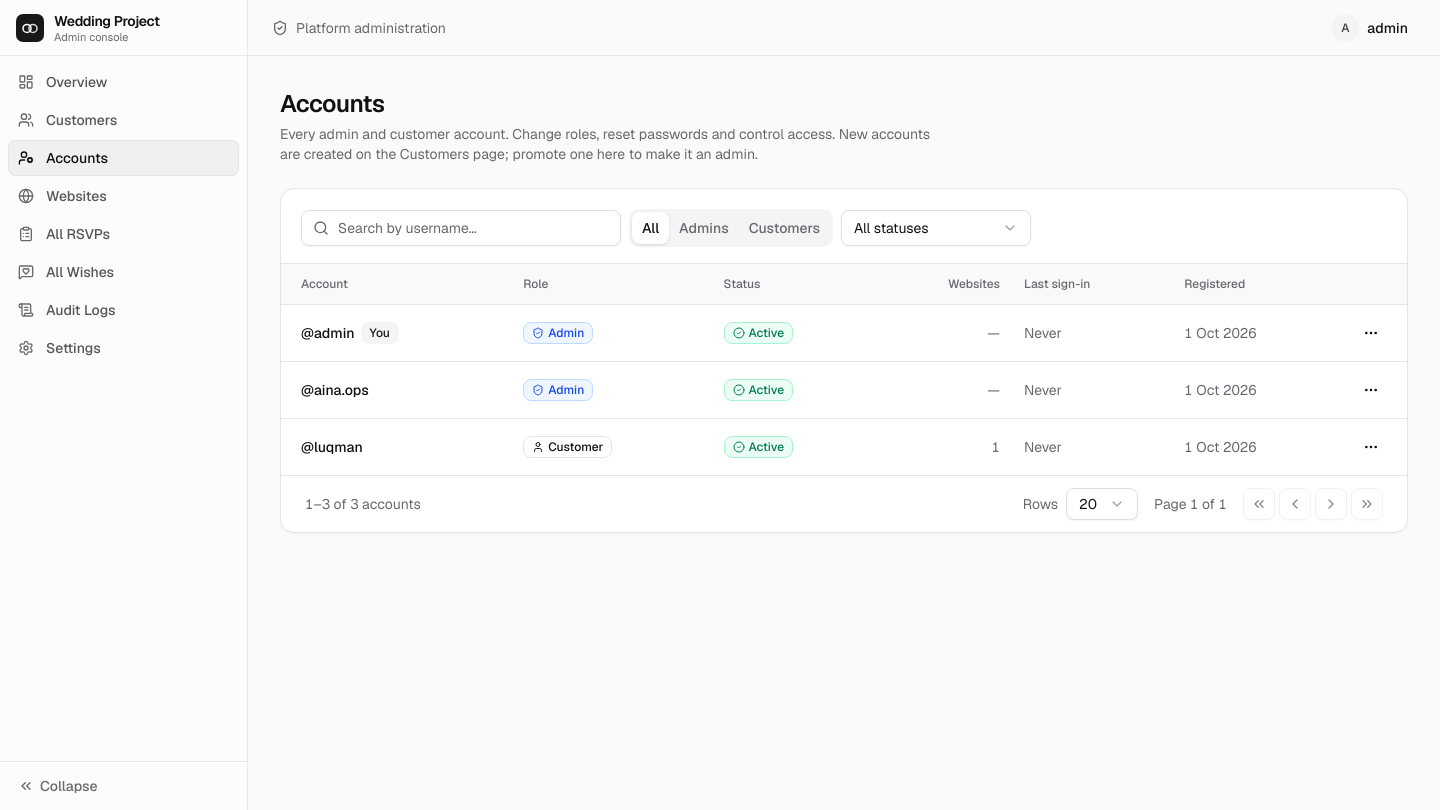
Test case: Admin accounts page › promotes a customer to admin after warning that their websites become unassigned
This screenshot has width=1440, height=810.
Click the button named "actions for luqman". click: (1371, 446)
box: [1355, 430, 1387, 462]
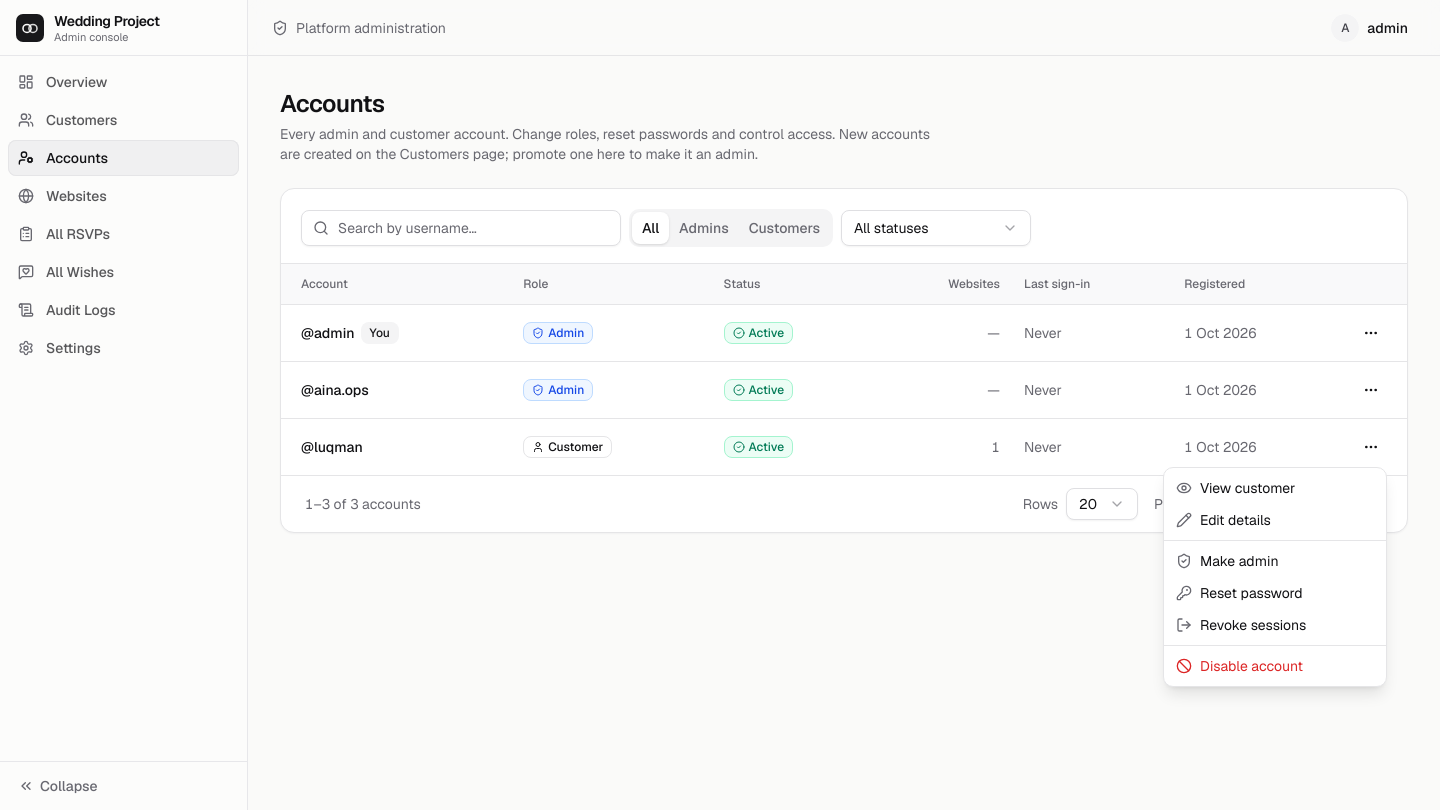
Click the menu item "Make admin". click: (1227, 561)
box: [1176, 552, 1278, 570]
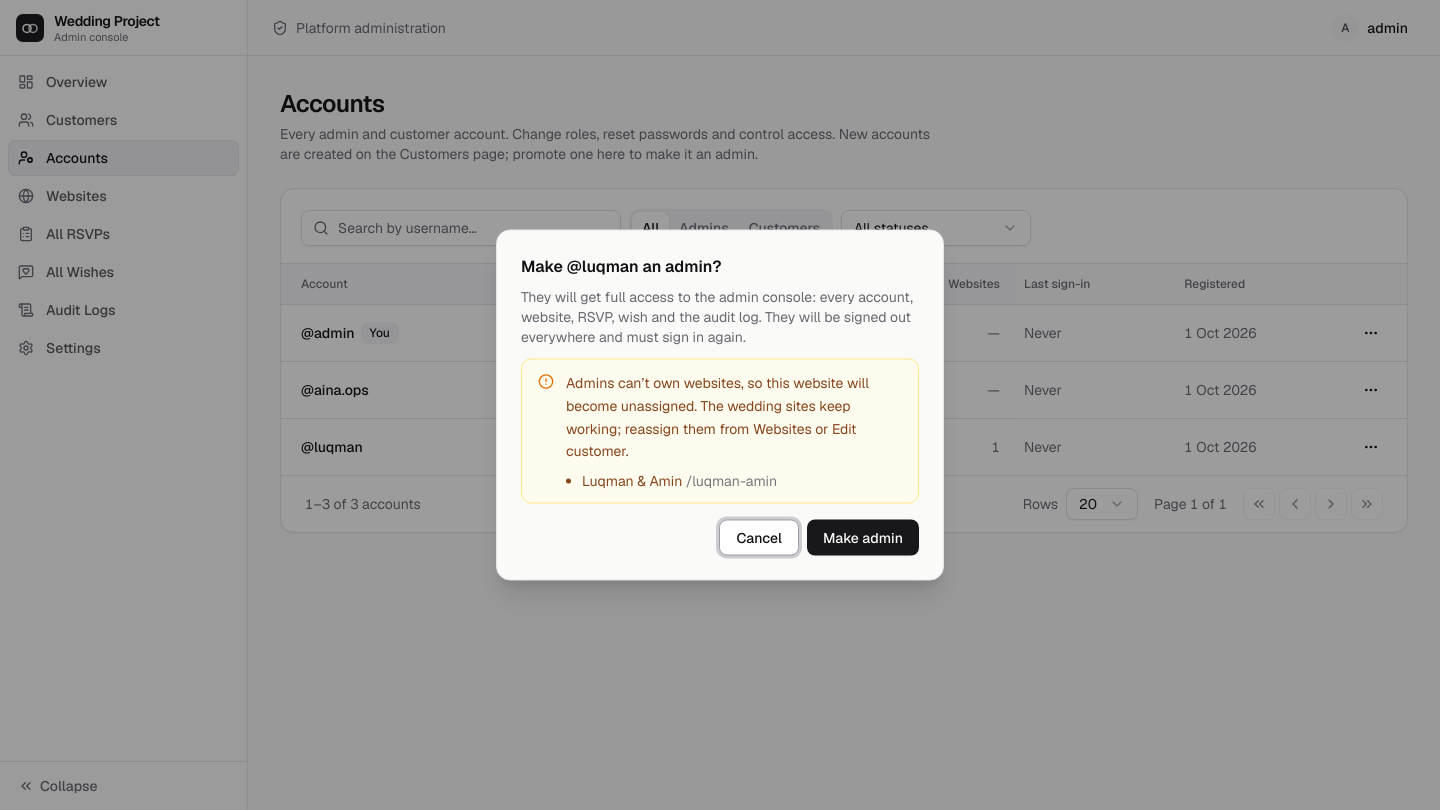
Expected: the heading "Make @luqman an admin?" is shown, [521, 256, 722, 276]
Expected: the list item "Luqman & Amin" is shown, [582, 472, 682, 490]
Click the button "Make admin". click: (863, 538)
box: [807, 520, 919, 556]
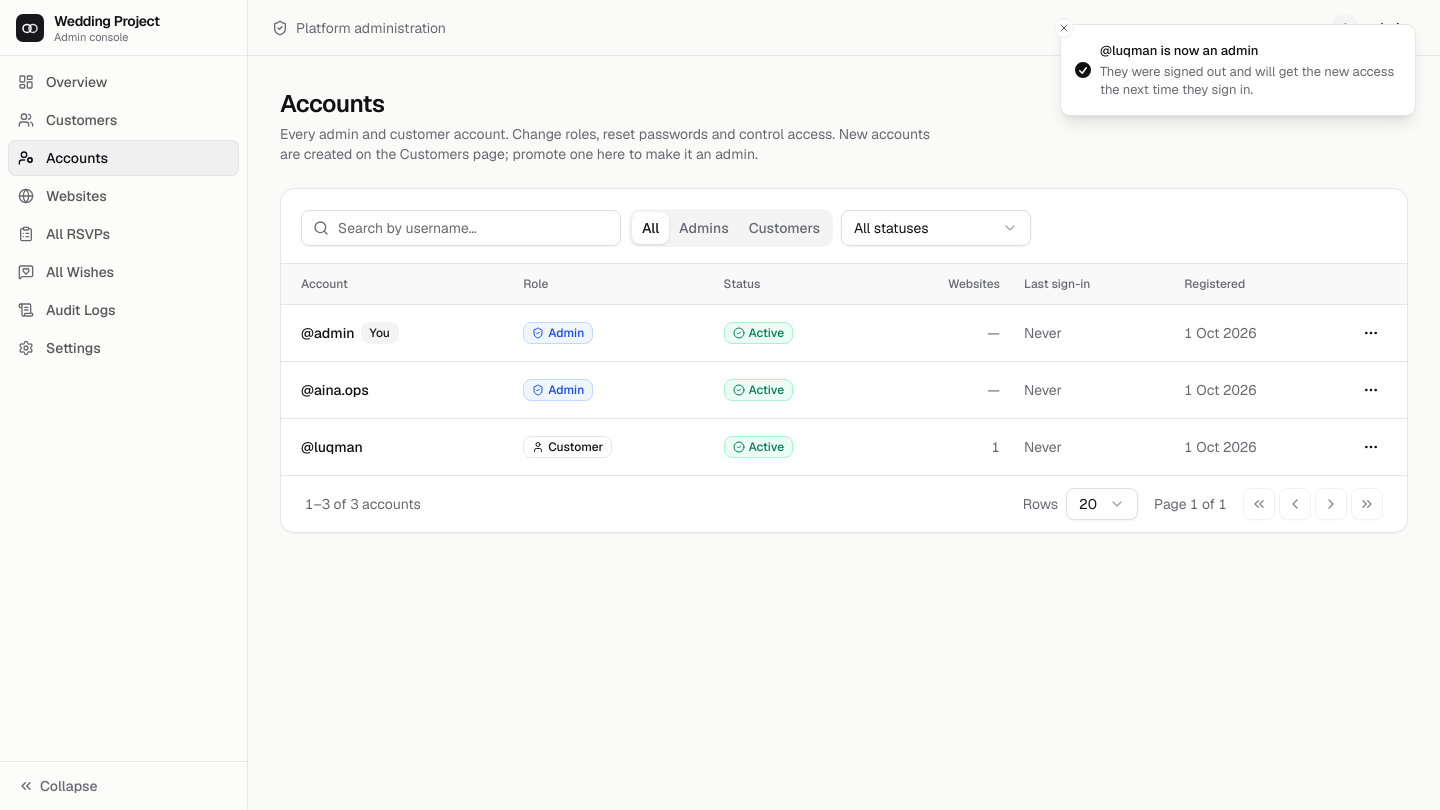
Expected: the text "@luqman is now an admin" is shown, [1100, 42, 1258, 59]
